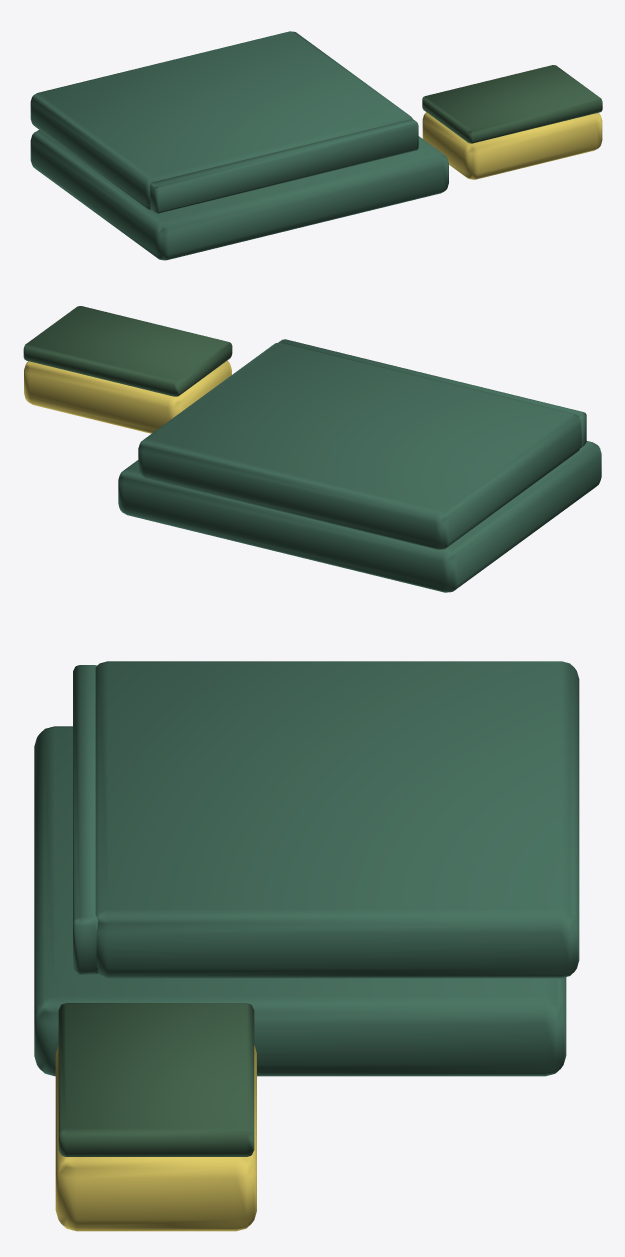
File: asset_077_cleaning_cloth_and_sponge_set.glb
The picture shows the model from 3 angles, top to bottom: view 1: azimuth 30°, elevation 25°; view 2: azimuth 150°, elevation 25°; view 3: azimuth 270°, elevation 25°; orthographic projection. The views are drawn at different scales.
Visible parts, largest first — view 1: MESH_ClothFoldedUpper, MESH_ClothFoldedLower, MESH_ClothFoldSeam, MESH_SpongeScourPad, MESH_SpongeFoam; view 2: MESH_ClothFoldedUpper, MESH_ClothFoldedLower, MESH_SpongeScourPad, MESH_SpongeFoam, MESH_ClothFoldSeam; view 3: MESH_ClothFoldedUpper, MESH_ClothFoldedLower, MESH_SpongeScourPad, MESH_SpongeFoam, MESH_ClothFoldSeam.
Part boxes in pixels (x1,y1,x2,y2): MESH_ClothFoldedUpper: (30,31,412,210); MESH_ClothFoldedLower: (30,130,448,260); MESH_ClothFoldSeam: (150,119,418,213); MESH_SpongeScourPad: (422,65,602,143); MESH_SpongeFoam: (422,112,602,179); MESH_ClothFoldedUpper: (138,342,581,549); MESH_ClothFoldedLower: (118,441,601,592); MESH_SpongeScourPad: (23,306,232,396); MESH_SpongeFoam: (24,360,231,433); MESH_ClothFoldSeam: (278,339,586,447); MESH_ClothFoldedUpper: (95,661,579,978); MESH_ClothFoldedLower: (34,726,566,1076); MESH_SpongeScourPad: (58,1003,254,1156); MESH_SpongeFoam: (55,1045,256,1231); MESH_ClothFoldSeam: (73,665,97,974).
Bounding box in the file's own units: 0.3705 × 0.0605 × 0.1935.
